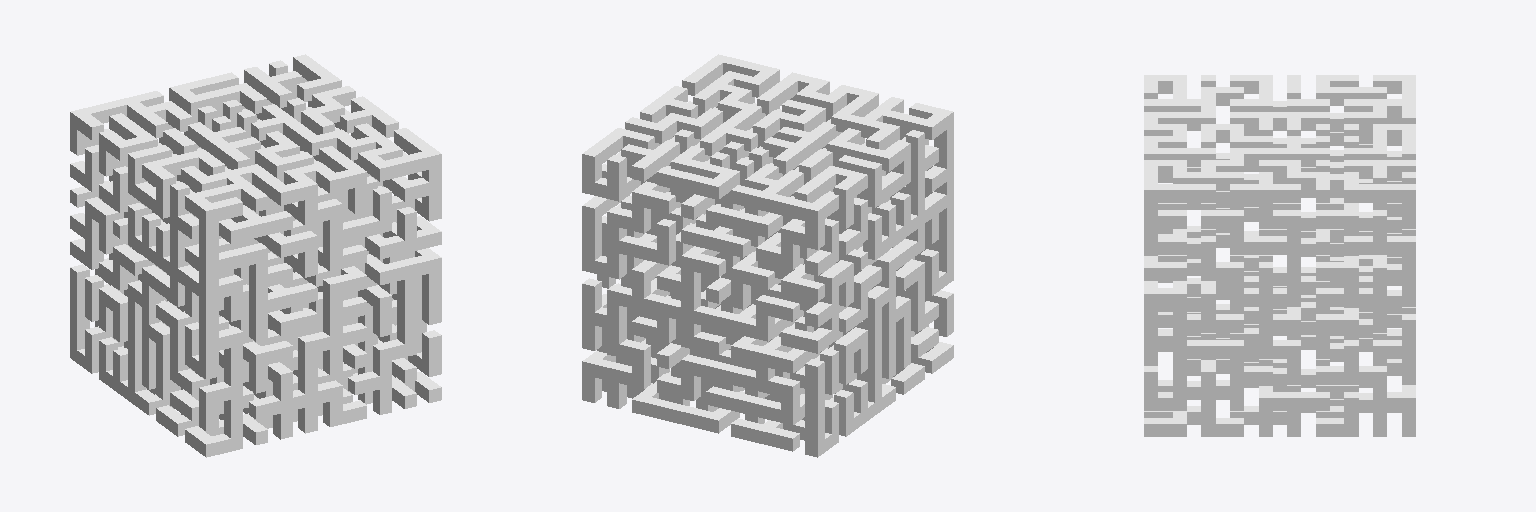
File: boss.obj
3 views of the same model, side by side, from view 1: azimuth 30°, elevation 25°; view 2: azimuth 150°, elevation 25°; view 3: azimuth 270°, elevation 25° (orthographic).
Bounding box in the file's own units: 19 × 19 × 19.